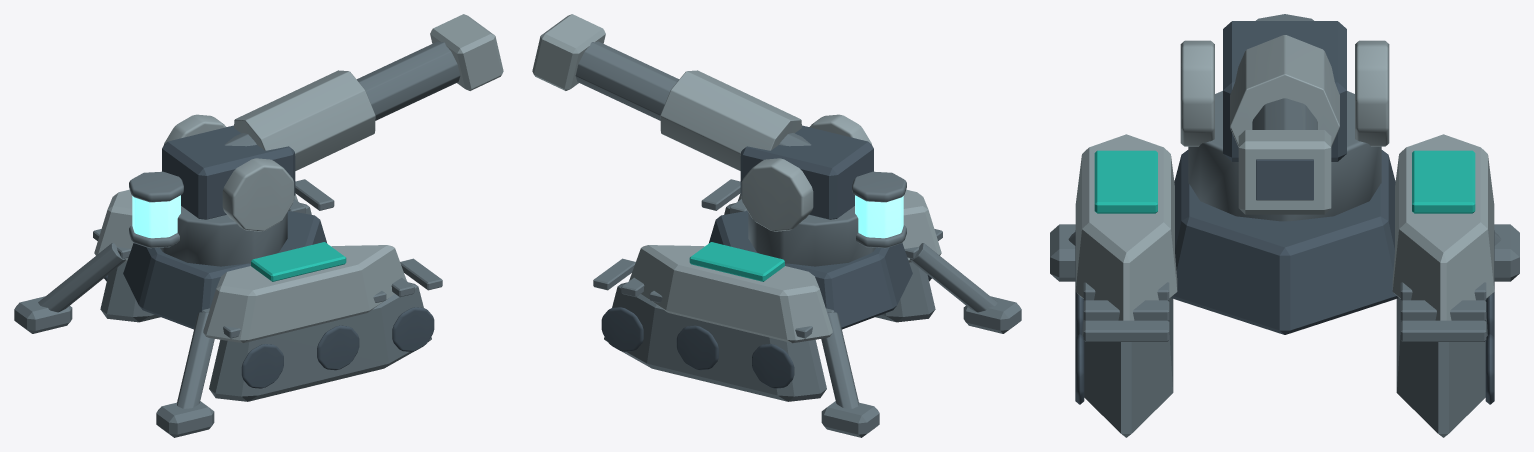
The model's file is SM_Cinderthrow.fbx.
3 views of the same model, side by side, from view 1: azimuth 30°, elevation 25°; view 2: azimuth 150°, elevation 25°; view 3: azimuth 270°, elevation 25° (orthographic). The views are drawn at different scales.
Visible parts, largest first — view 1: SM_Cinderthrow; view 2: SM_Cinderthrow; view 3: SM_Cinderthrow.
Boxes of the visible parts, x1,y1,x2,y2 form: SM_Cinderthrow: [14, 14, 503, 437]; SM_Cinderthrow: [532, 14, 1021, 437]; SM_Cinderthrow: [1050, 14, 1519, 437].
Bounding box in the file's own units: 60 × 41.85 × 38.
